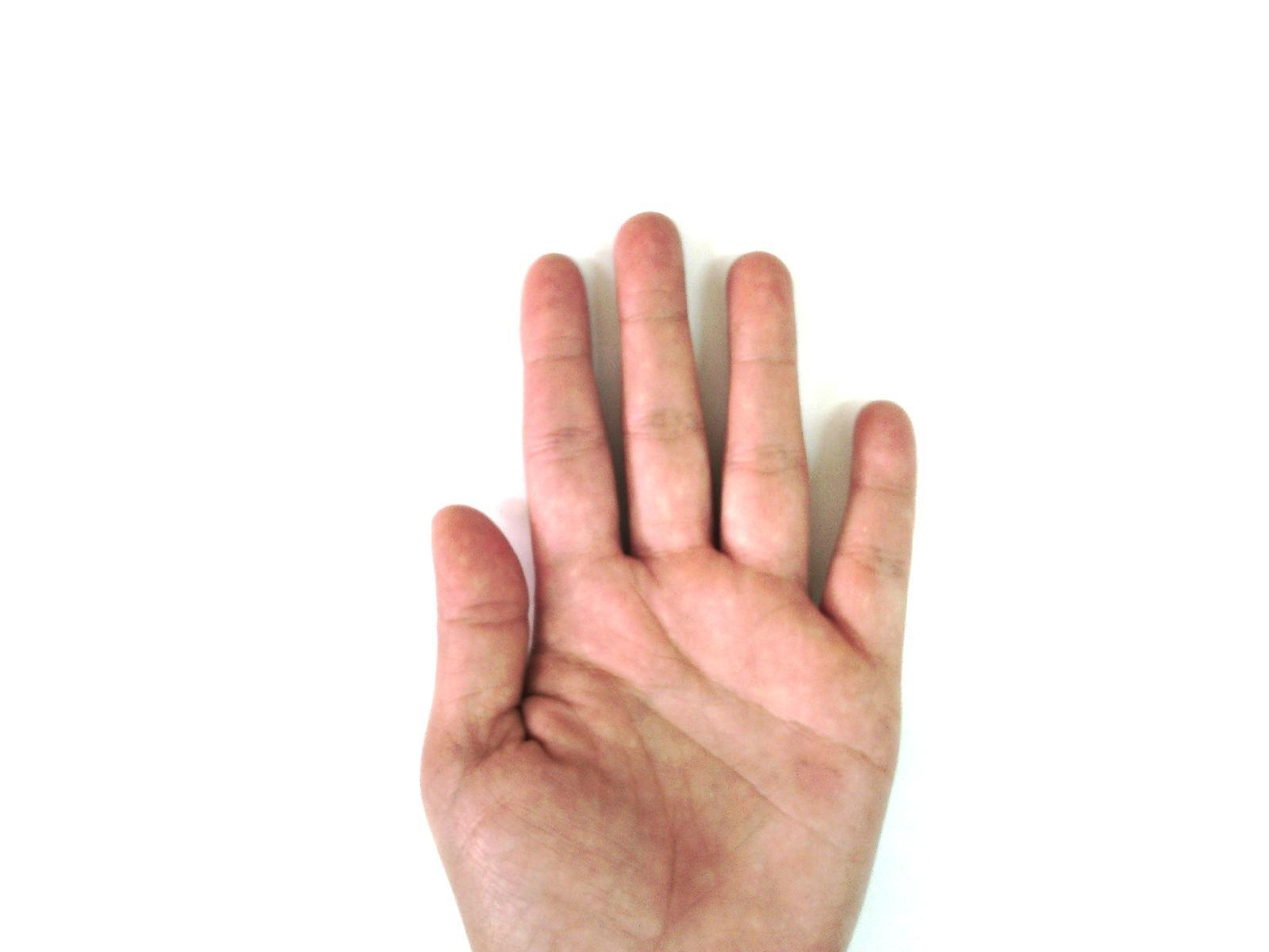open_palm: (417, 211, 921, 951)
